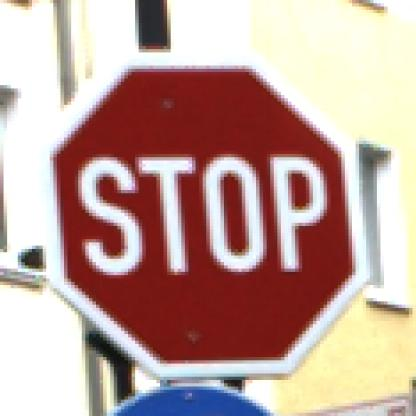stop: (37, 57, 370, 382)
